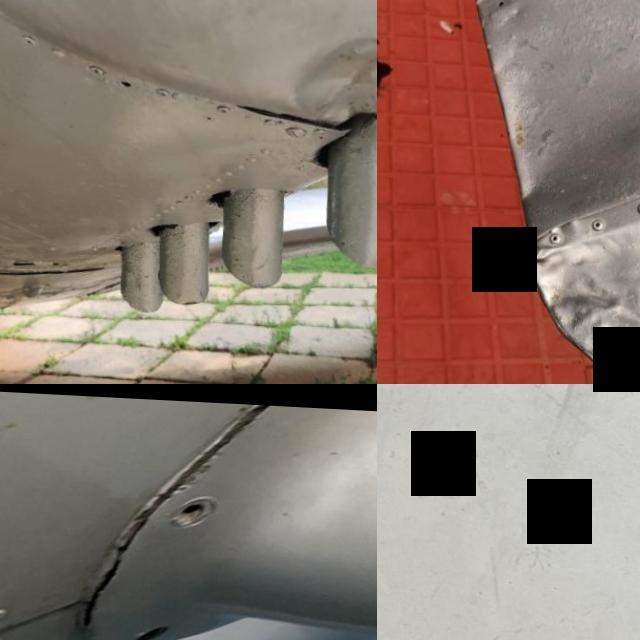Crack: (15, 442, 152, 640), (147, 396, 371, 496)
Dent: (521, 243, 640, 384), (265, 7, 377, 148)
Missing_Fastener: (168, 494, 219, 534), (124, 609, 171, 640)
